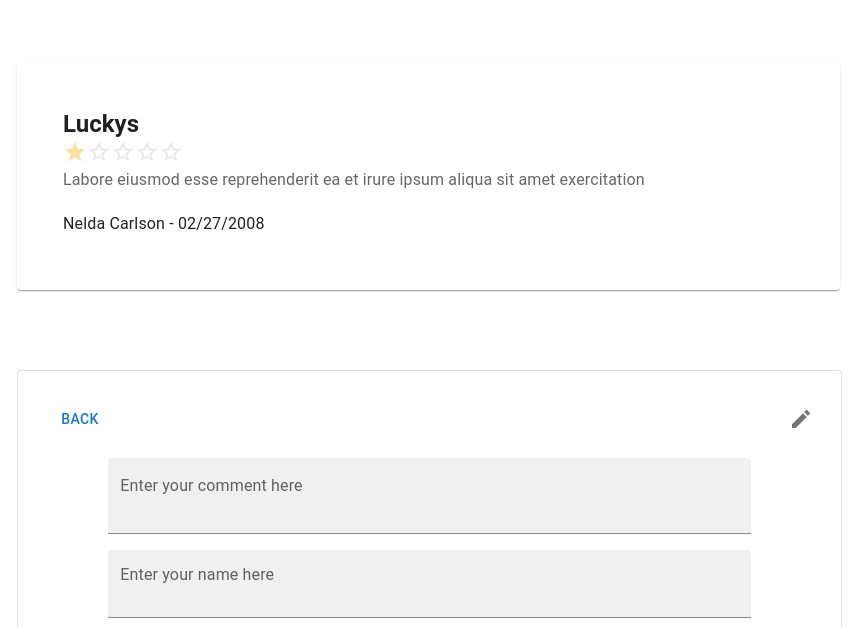
Test case: Review Detail Info should have the save and cancel button to be enabled when both fields have values
Type "This is comment" into the field with test id "comment-field".
click(430, 496); type("This is comment")  # box [118,468,741,524]
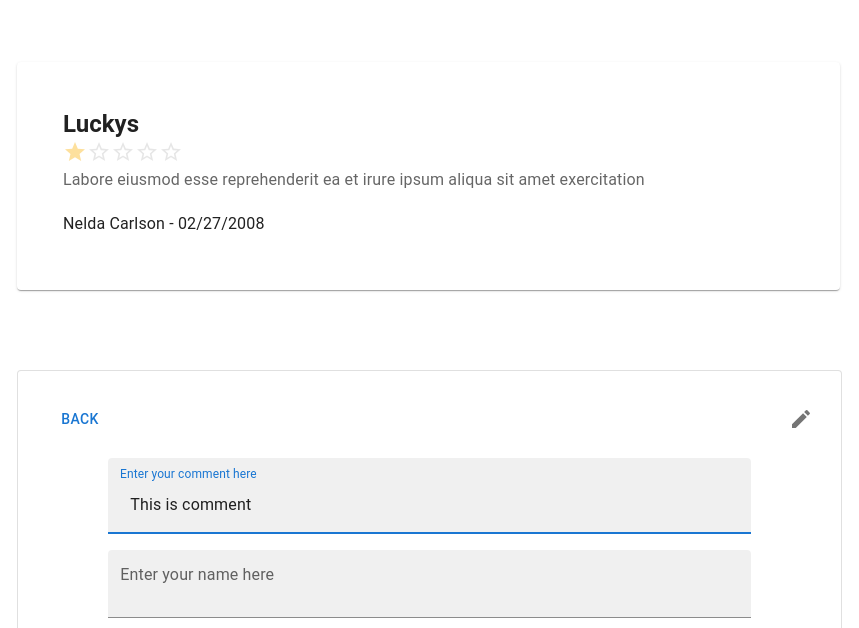
Type "This is creator" into the field with test id "creator-field".
click(430, 584); type("This is creator")  # box [118,560,741,608]
(page scrolled)
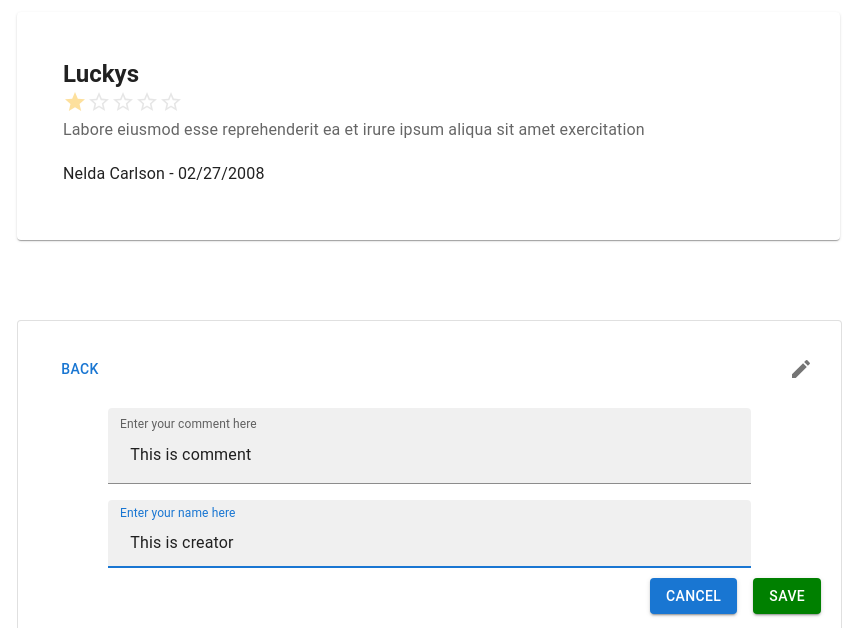
Result: the button with test id "save-button" is enabled at [753,578,821,614]
